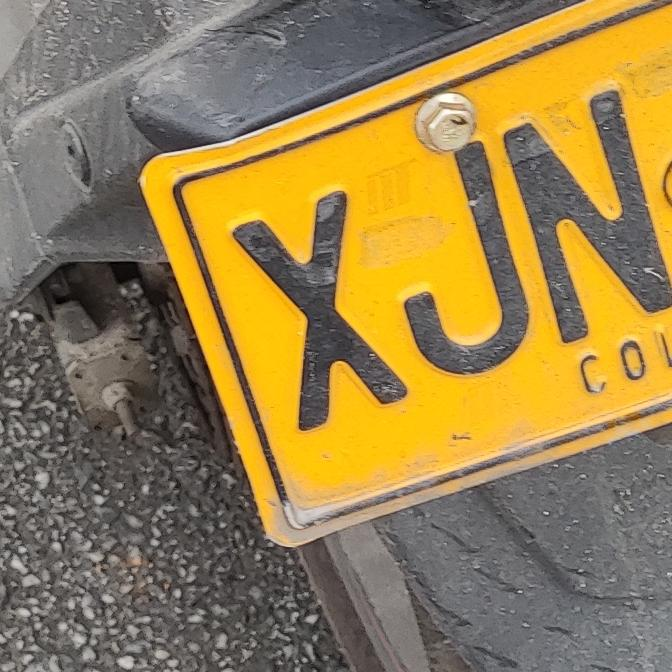plates: (143, 0, 672, 550)
